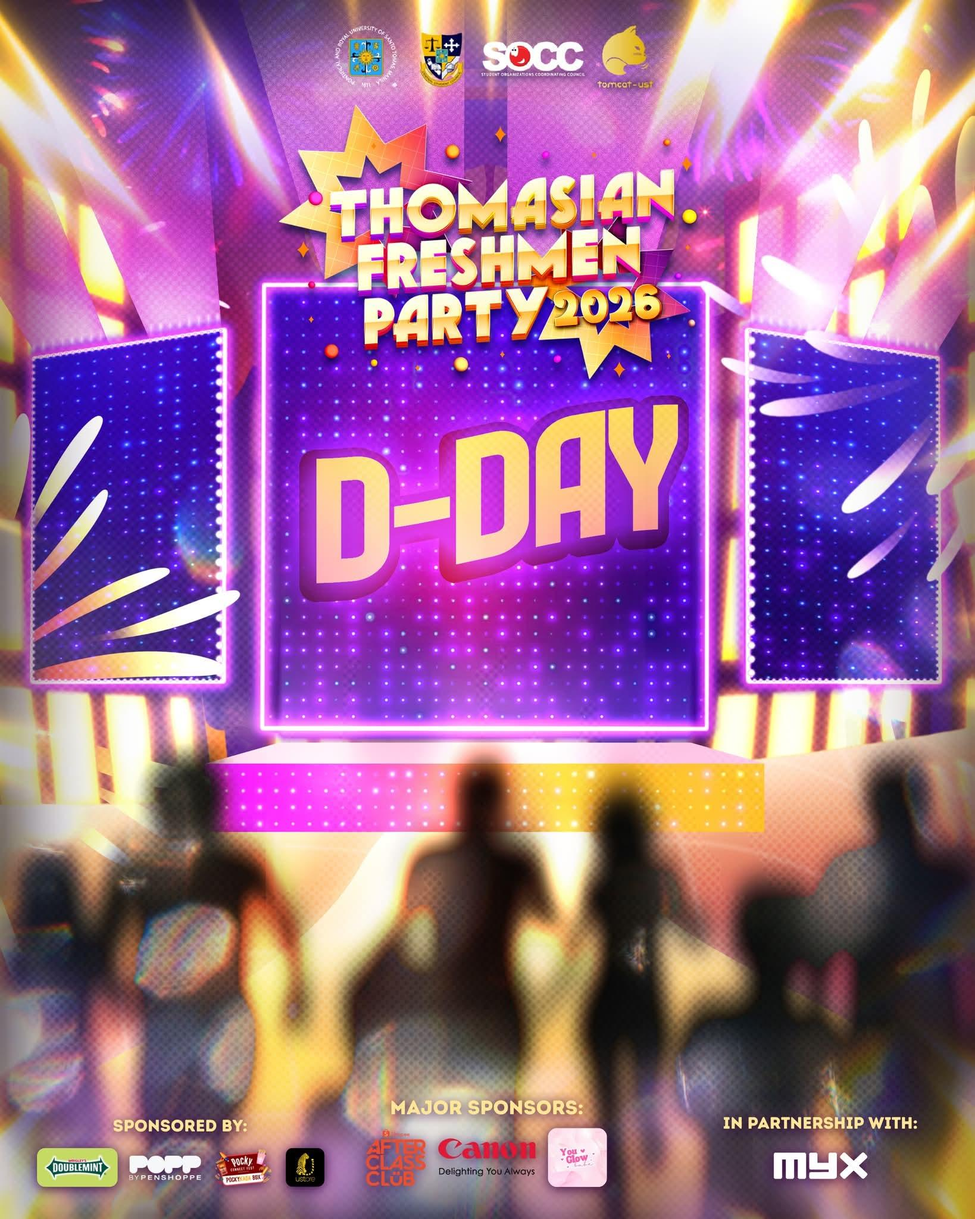embellishment: (24, 279, 943, 758), (283, 739, 974, 1218), (0, 749, 315, 1218), (668, 2, 975, 335), (0, 0, 172, 261), (190, 6, 287, 204)
logo: (475, 33, 590, 80), (434, 1131, 541, 1181), (329, 20, 402, 93), (766, 1142, 875, 1186), (594, 20, 659, 91), (361, 1126, 432, 1191), (545, 1124, 612, 1191), (33, 1143, 122, 1192), (415, 24, 470, 91), (126, 1148, 208, 1184), (213, 1145, 276, 1188), (283, 1143, 329, 1191)
text: (284, 388, 702, 610), (324, 158, 700, 354), (386, 1092, 587, 1122), (717, 1108, 925, 1136), (106, 1112, 253, 1136)
underlay: (215, 739, 765, 832)
